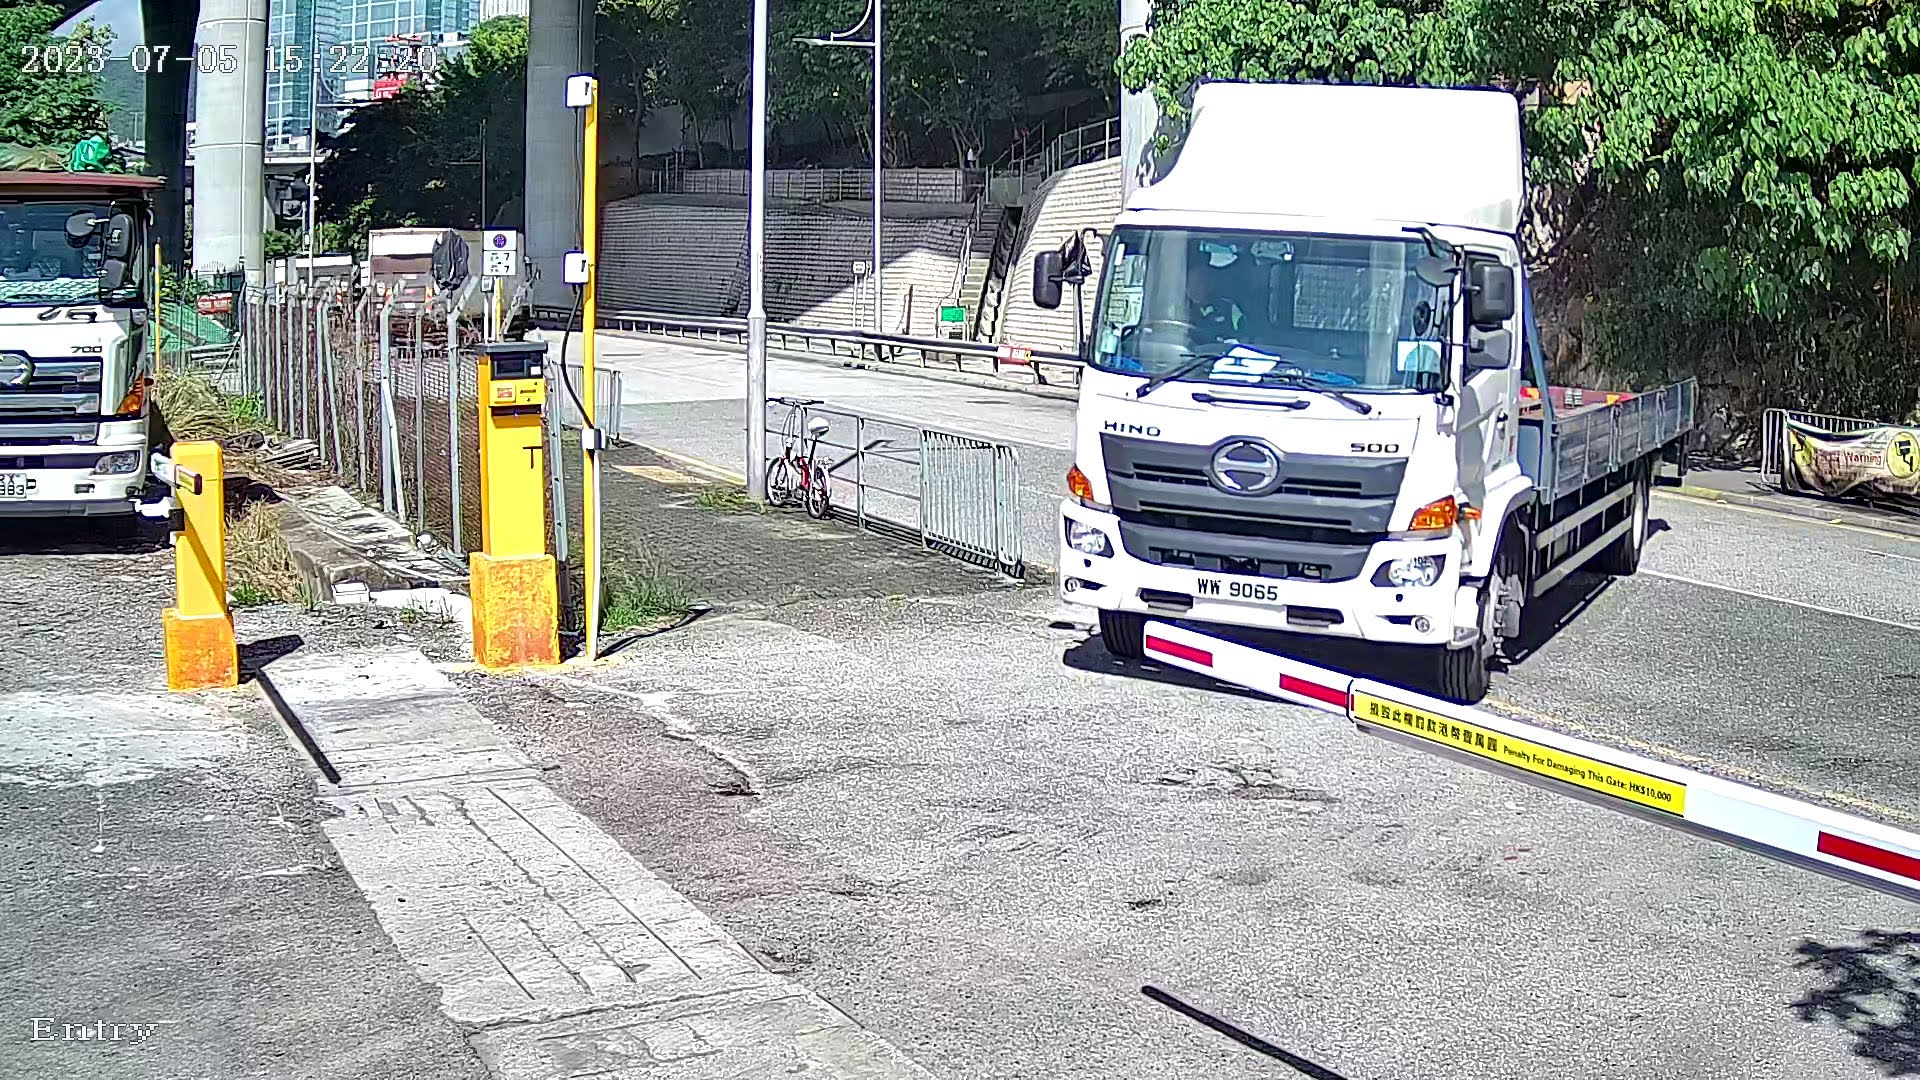truck: (1023, 29, 1742, 717)
